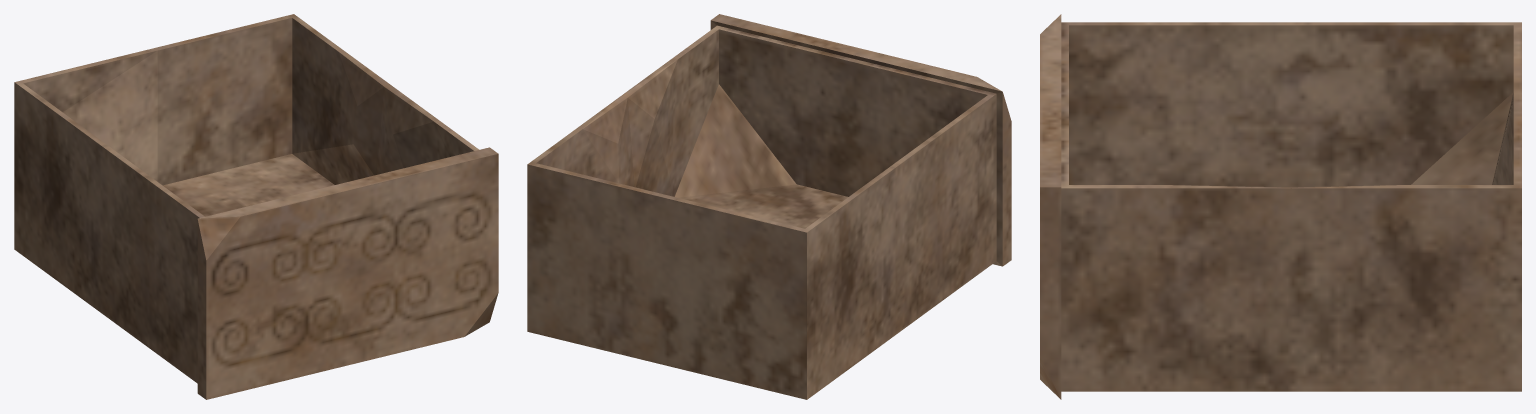
The model's file is bone drawer 4 .fbx.
The picture shows the model from 3 angles, left to right: view 1: azimuth 30°, elevation 25°; view 2: azimuth 150°, elevation 25°; view 3: azimuth 270°, elevation 25°; orthographic projection. The views are drawn at different scales.
Visible parts, largest first — view 1: Cube.008; view 2: Cube.008; view 3: Cube.008.
Part boxes in pixels (x1,y1,x2,y2): Cube.008: (14,14,498,399); Cube.008: (527,14,1011,399); Cube.008: (1040,14,1521,399).
Size of the model in its own units: 132 by 75.48 by 155.
1 material, 1 textured.
